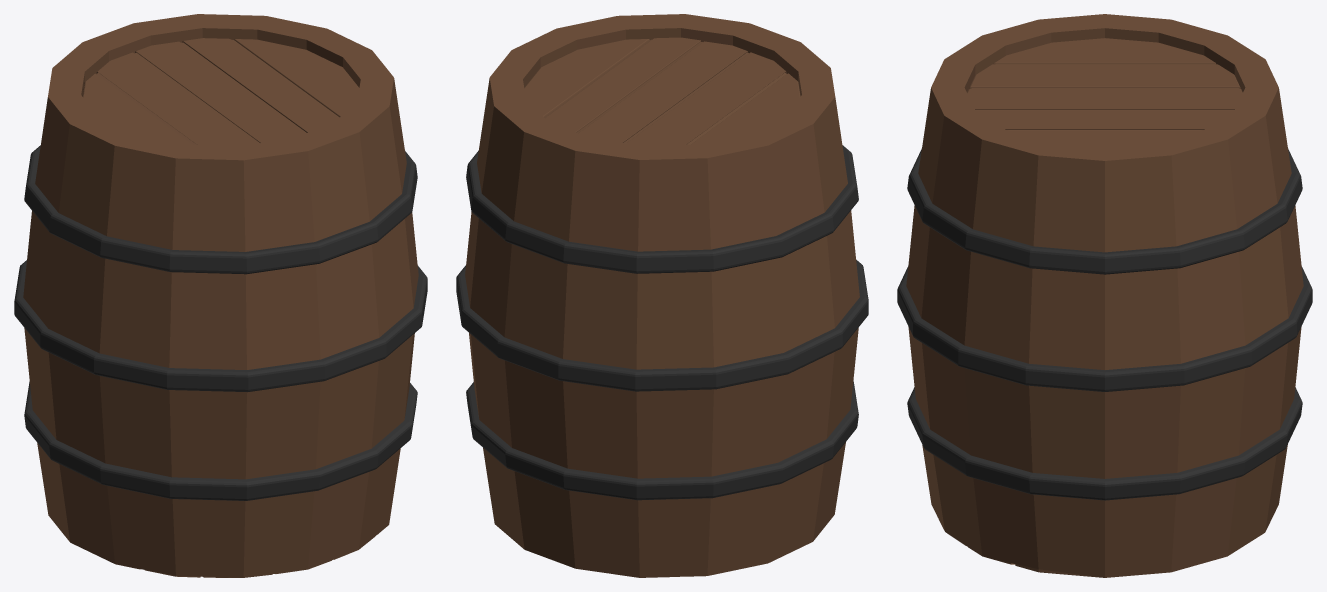
Rendered from barrel.fbx.
3 renders of one model, left to right at view 1: azimuth 30°, elevation 25°; view 2: azimuth 150°, elevation 25°; view 3: azimuth 270°, elevation 25°, orthographic.
Parts seen in each view (by area): view 1: barrel; view 2: barrel; view 3: barrel.
Part boxes in pixels (x1,y1,x2,y2): barrel: (14, 14, 427, 577); barrel: (456, 14, 868, 577); barrel: (897, 14, 1312, 577).
Bounding box in the file's own units: 66.3 × 73.52 × 66.3.
